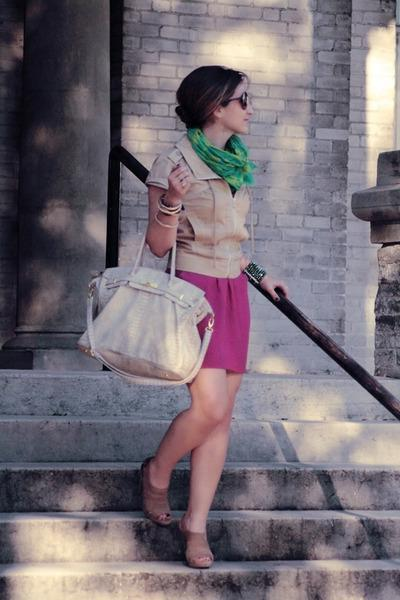jacket: (141, 137, 263, 278)
skirt: (161, 268, 259, 379)
